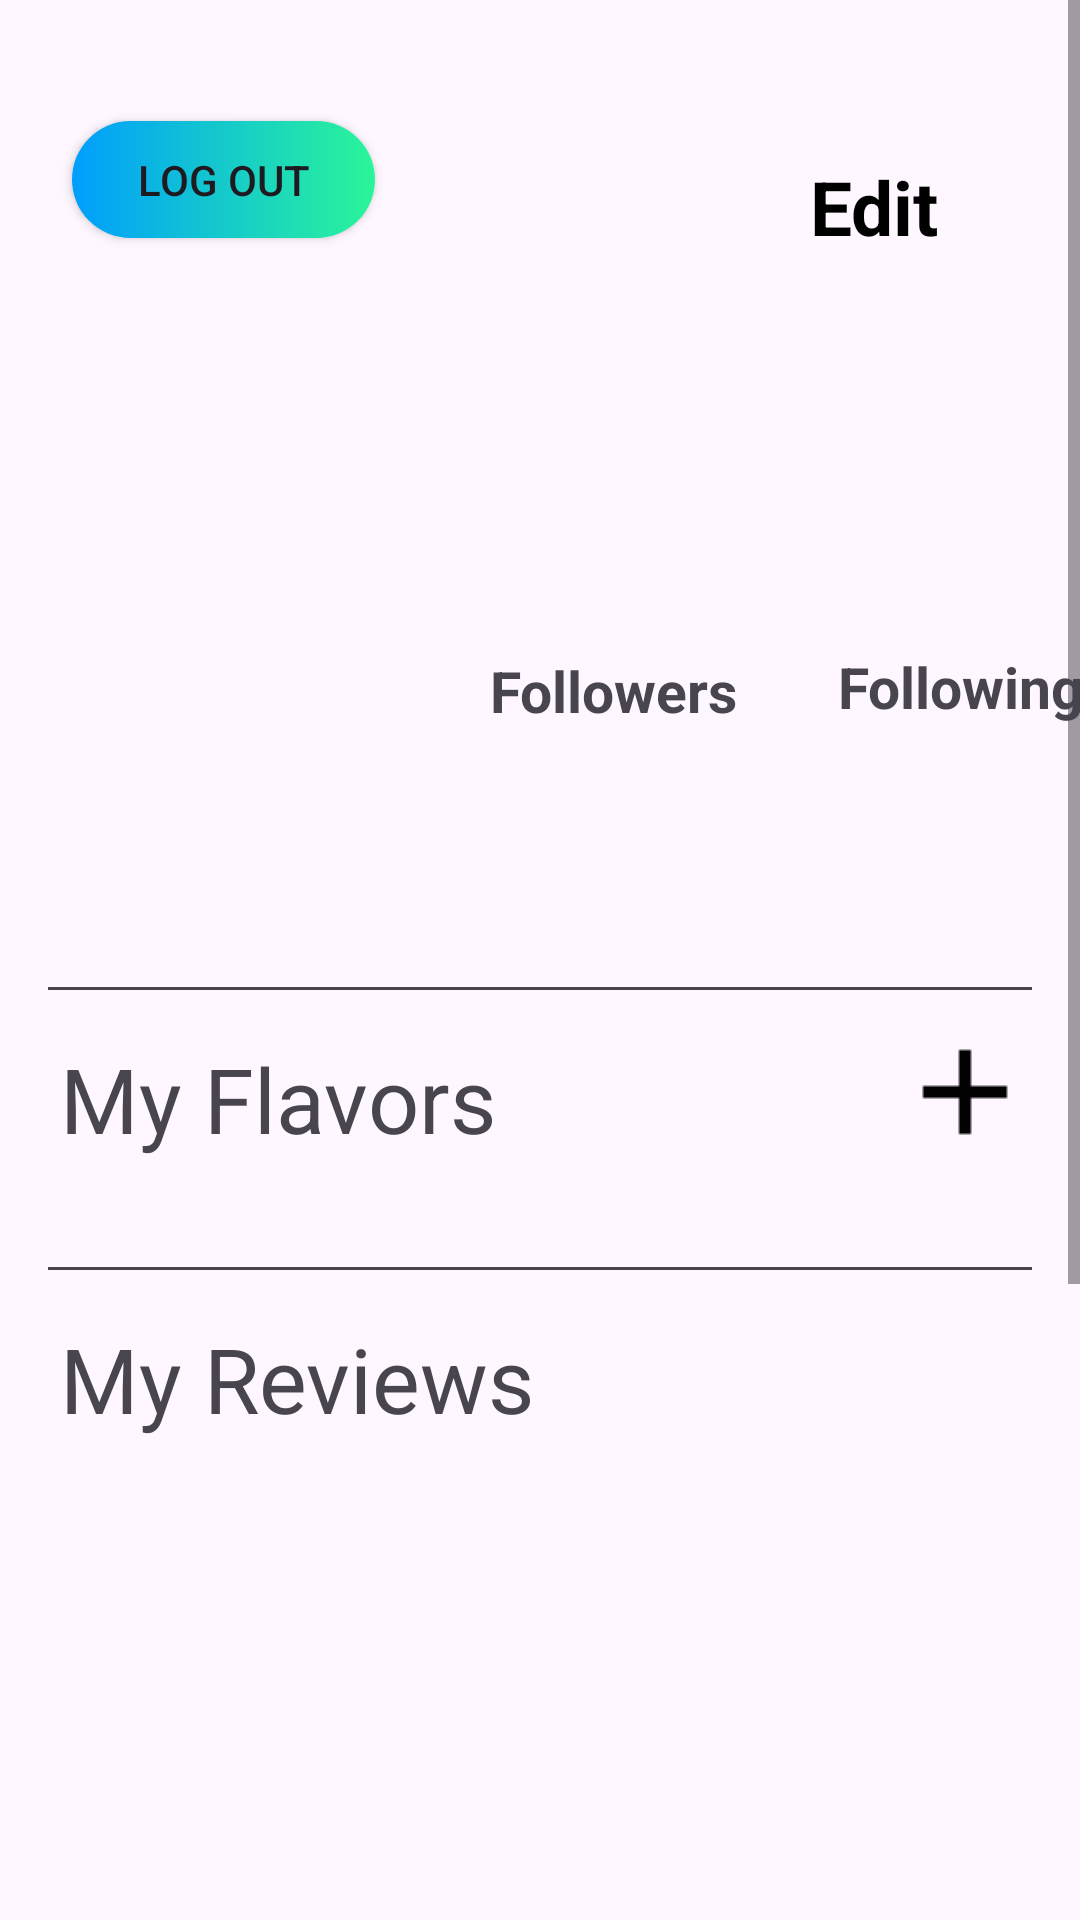

Where to tap for icons on this 1080 × 1920 app screen, as (x=x, y=y):
add more flavors: (x=965, y=1092)
